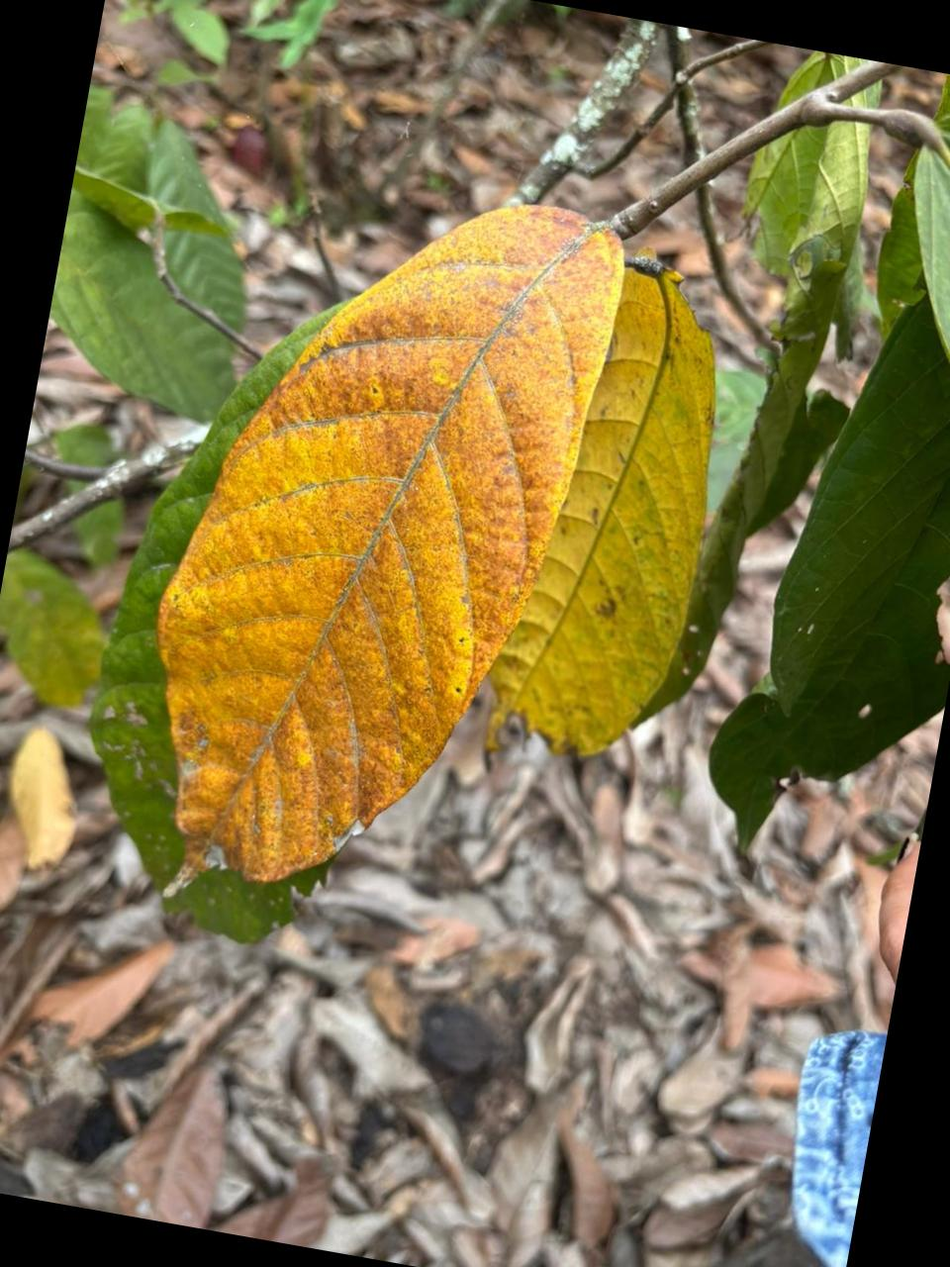Fosforo: (157, 206, 622, 882)
